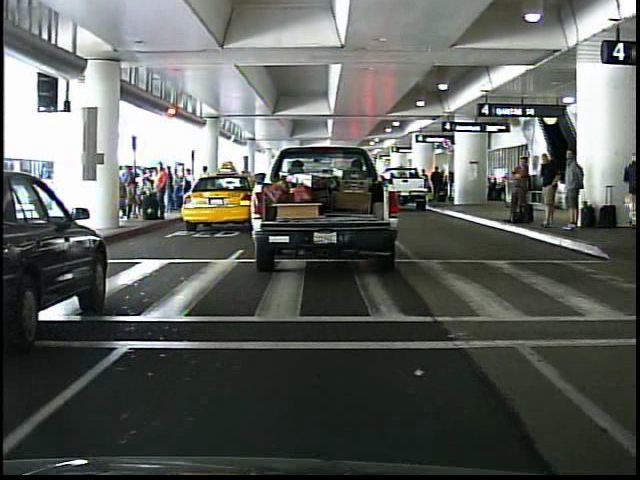person: (621, 149, 640, 234)
